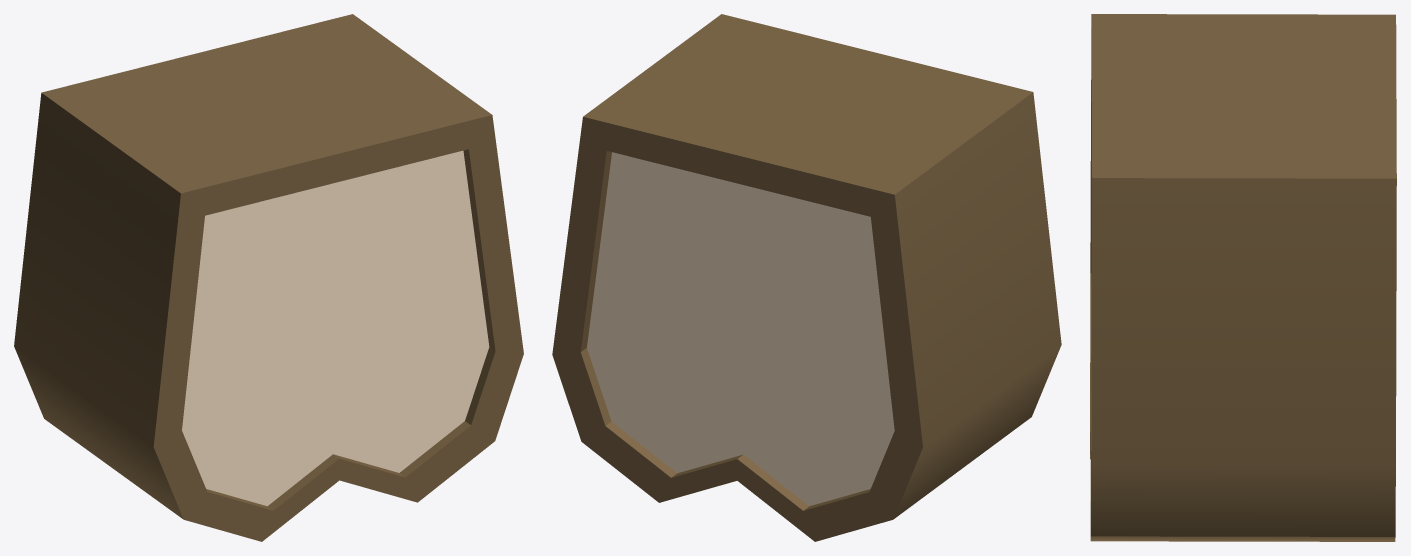
The model's file is Sad Toast.glb.
3 renders of one model, left to right at view 1: azimuth 30°, elevation 25°; view 2: azimuth 150°, elevation 25°; view 3: azimuth 270°, elevation 25°, orthographic. The views are drawn at different scales.
Parts seen in each view (by area): view 1: ButteredBread_geo1; view 2: ButteredBread_geo1; view 3: ButteredBread_geo1.
Part boxes in pixels (x1,y1,x2,y2): ButteredBread_geo1: [14, 14, 523, 541]; ButteredBread_geo1: [552, 14, 1061, 541]; ButteredBread_geo1: [1090, 14, 1396, 541].
Bounding box in the file's own units: 5.16 × 4.92 × 3.37.
